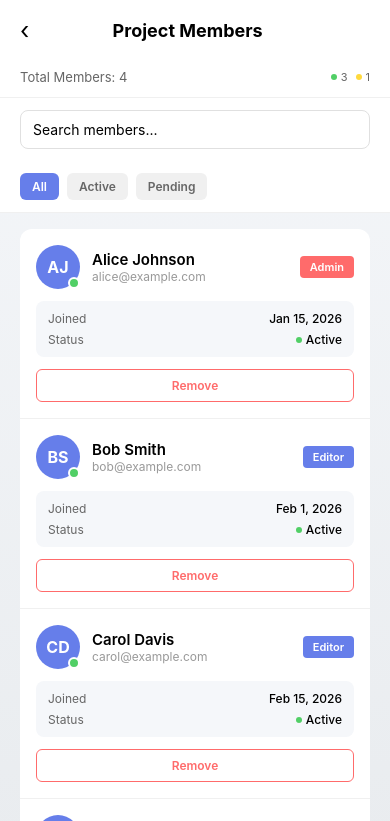
Test case: ProjectMembersScreen › Permission Management › should display permission change modal when badge tapped
The width and height of the screenshot is (390, 821).
Click the text "admin". click: (327, 267)
box: [310,260,344,274]
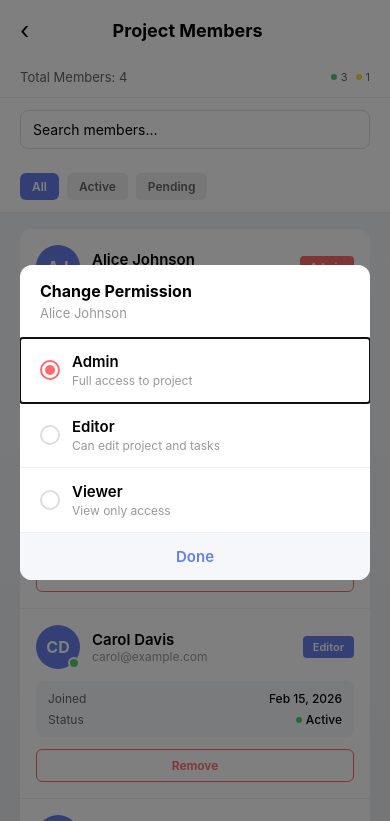
Check: the text "Change Permission" is shown, box [40,280,192,300]
